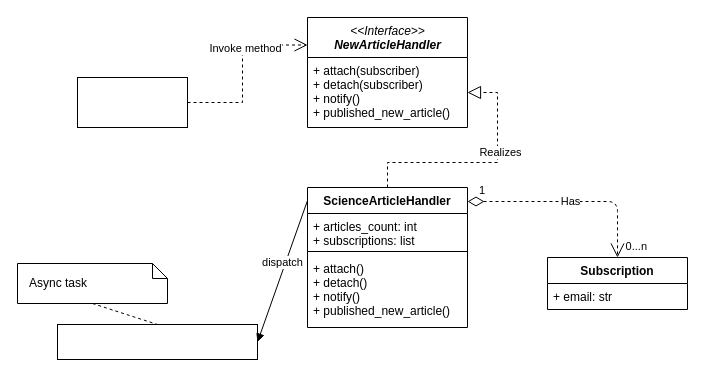
The diagram is 705 pixels wide and 377 high, and some of its shapes have lost their labels. Each missing label, with the centre of its shape:
"def send_email(email_list)" goes at point (157, 342).
"Event" goes at point (132, 102).
